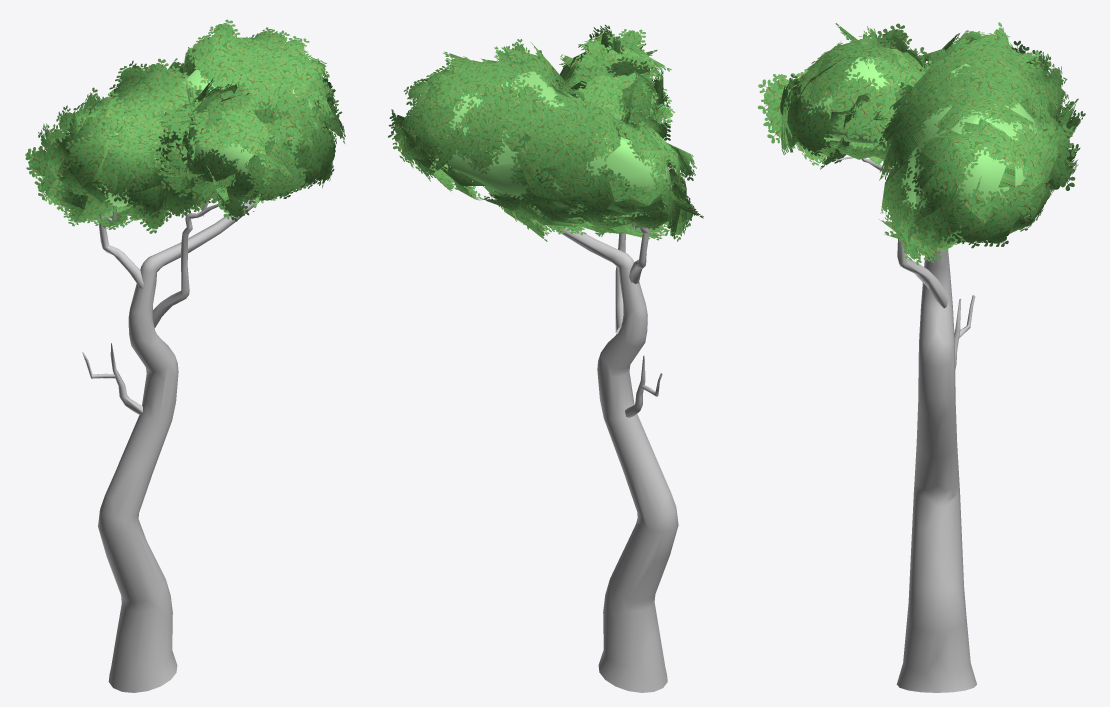
File: SM_Navitree_C.fbx
3 views of the same model, side by side, from view 1: azimuth 30°, elevation 25°; view 2: azimuth 150°, elevation 25°; view 3: azimuth 270°, elevation 25° (orthographic). The views are drawn at different scales.
Parts seen in each view (by area): view 1: SM_Navitree_C; view 2: SM_Navitree_C; view 3: SM_Navitree_C.
Part boxes in pixels (<box>): SM_Navitree_C: <box>25,19,345,692</box>; SM_Navitree_C: <box>388,24,703,692</box>; SM_Navitree_C: <box>757,22,1085,692</box>.
Bounding box in the file's own units: 2111 × 4137 × 1842.
